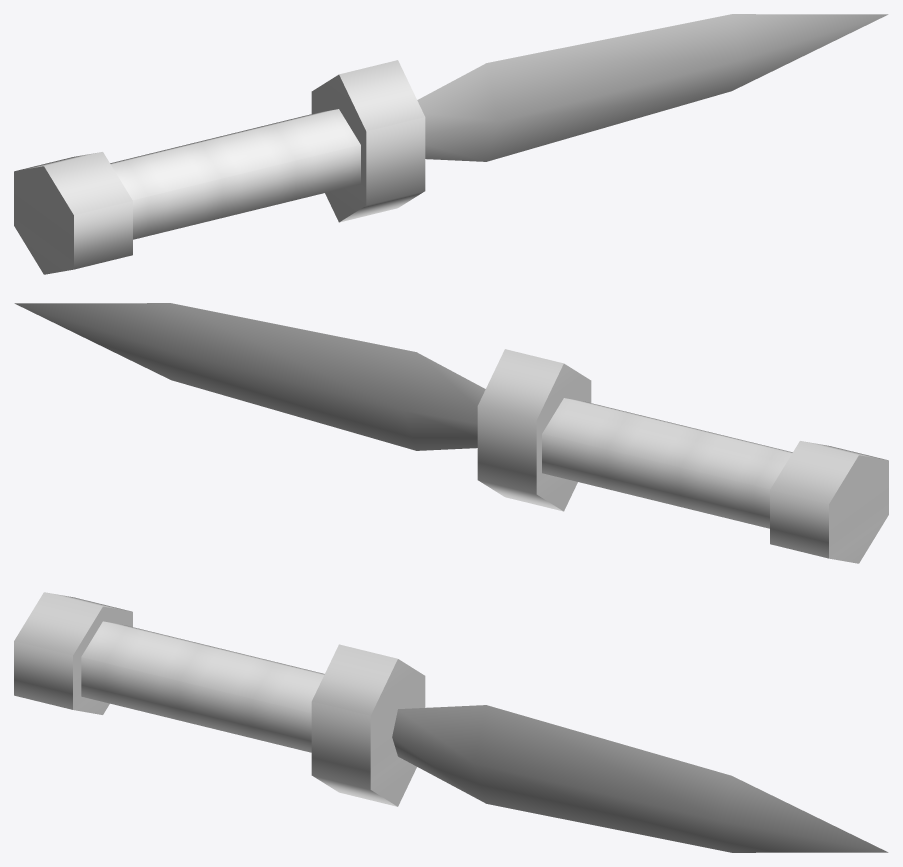
The model's file is knife.obj.
3 renders of one model, top to bottom at view 1: azimuth 30°, elevation 25°; view 2: azimuth 150°, elevation 25°; view 3: azimuth 330°, elevation 25°, orthographic.
Parts seen in each view (by area): view 1: blade, grip, guard, pommel; view 2: blade, grip, guard, pommel; view 3: blade, grip, guard, pommel.
Part boxes in pixels (left/top/right/bottom): blade: left=417, top=14, right=888, bottom=161; grip: left=110, top=109, right=360, bottom=239; guard: left=311, top=60, right=425, bottom=222; pommel: left=14, top=152, right=132, bottom=274; blade: left=14, top=303, right=485, bottom=450; grip: left=542, top=398, right=792, bottom=528; guard: left=477, top=349, right=591, bottom=511; pommel: left=770, top=441, right=888, bottom=563; blade: left=392, top=705, right=888, bottom=852; grip: left=81, top=621, right=324, bottom=752; guard: left=311, top=644, right=425, bottom=806; pommel: left=14, top=592, right=132, bottom=714.
Bounding box in the file's own units: 0.358 × 0.06 × 0.044.
